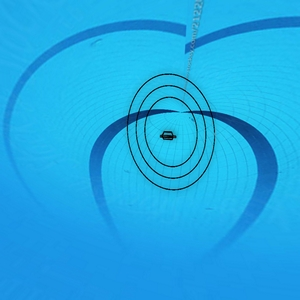circle: (123, 71, 213, 183)
submarine: (160, 130, 173, 141)
